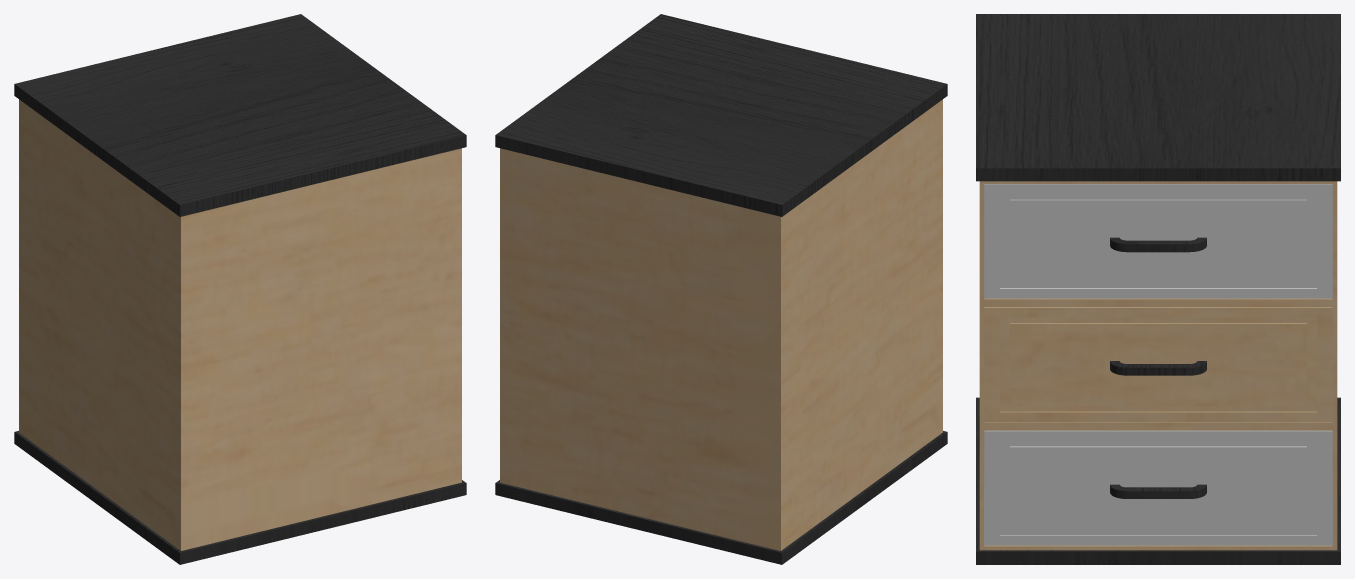
File: single_stand.obj
The picture shows the model from 3 angles, left to right: view 1: azimuth 30°, elevation 25°; view 2: azimuth 150°, elevation 25°; view 3: azimuth 270°, elevation 25°; orthographic projection. The views are drawn at different scales.
Visible parts, largest first — view 1: single_stand; view 2: single_stand; view 3: single_stand, latch_2, latch_3, latch_1.
Part boxes in pixels (x1,y1,x2,y2): single_stand: (14,14,466,564); single_stand: (495,14,947,564); single_stand: (976,14,1340,564); latch_2: (984,430,1332,545); latch_3: (984,307,1332,422); latch_1: (984,184,1332,298).
Size of the model in its own units: 0.6199 by 0.72 by 0.6.
